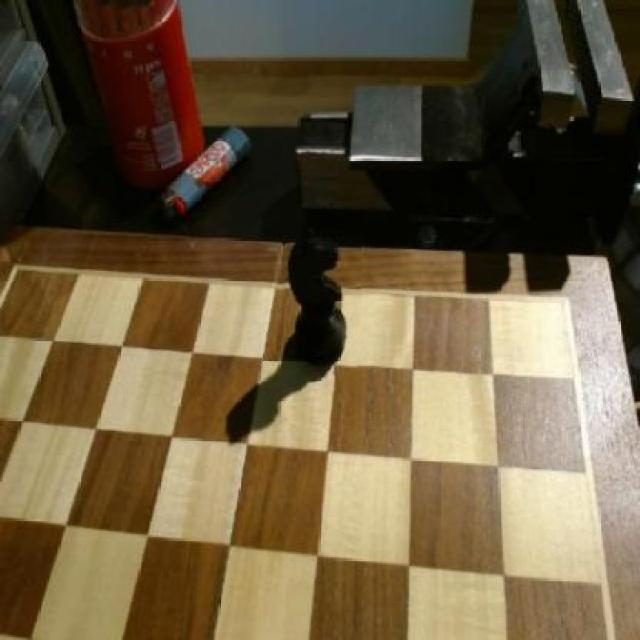black-king: (283, 223, 361, 377)
